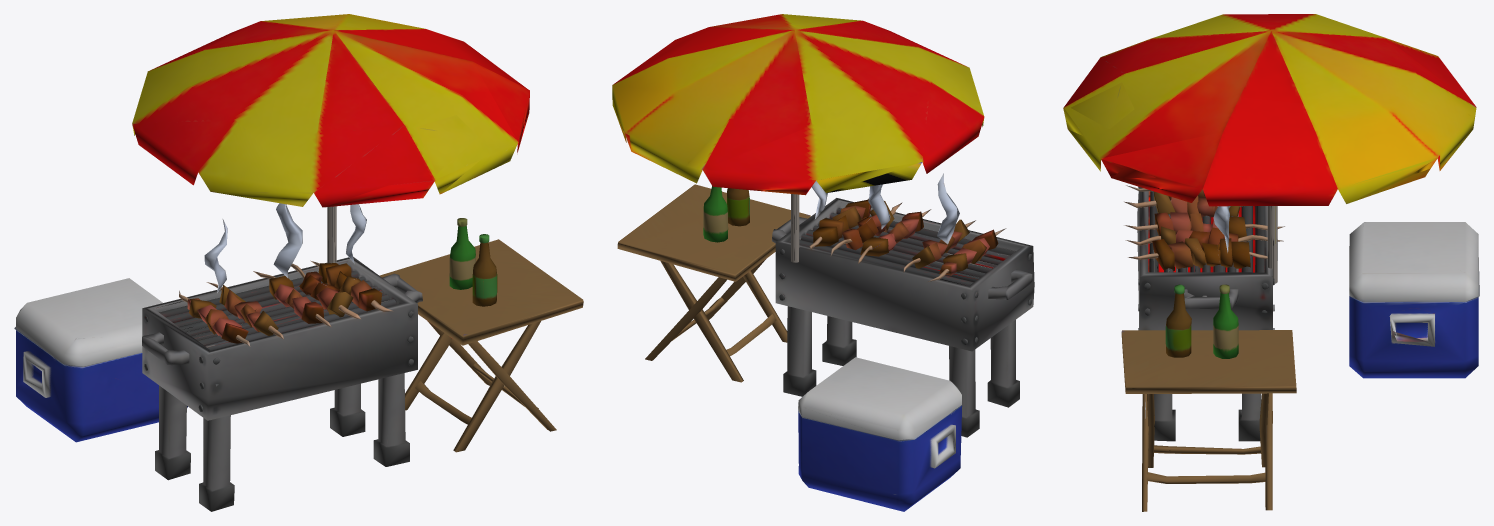
The model's file is churrasco.glb.
3 views of the same model, side by side, from view 1: azimuth 30°, elevation 25°; view 2: azimuth 150°, elevation 25°; view 3: azimuth 270°, elevation 25° (orthographic). The views are drawn at different scales.
Visible parts, largest first — view 1: geometry_0; view 2: geometry_0; view 3: geometry_0.
Part boxes in pixels (bbox=[...]): geometry_0: bbox=[14, 14, 583, 511]; geometry_0: bbox=[612, 14, 1034, 511]; geometry_0: bbox=[1063, 14, 1479, 511].
Size of the model in its own units: 0.9551 by 0.8804 by 0.8247.
1 material, 1 textured.
